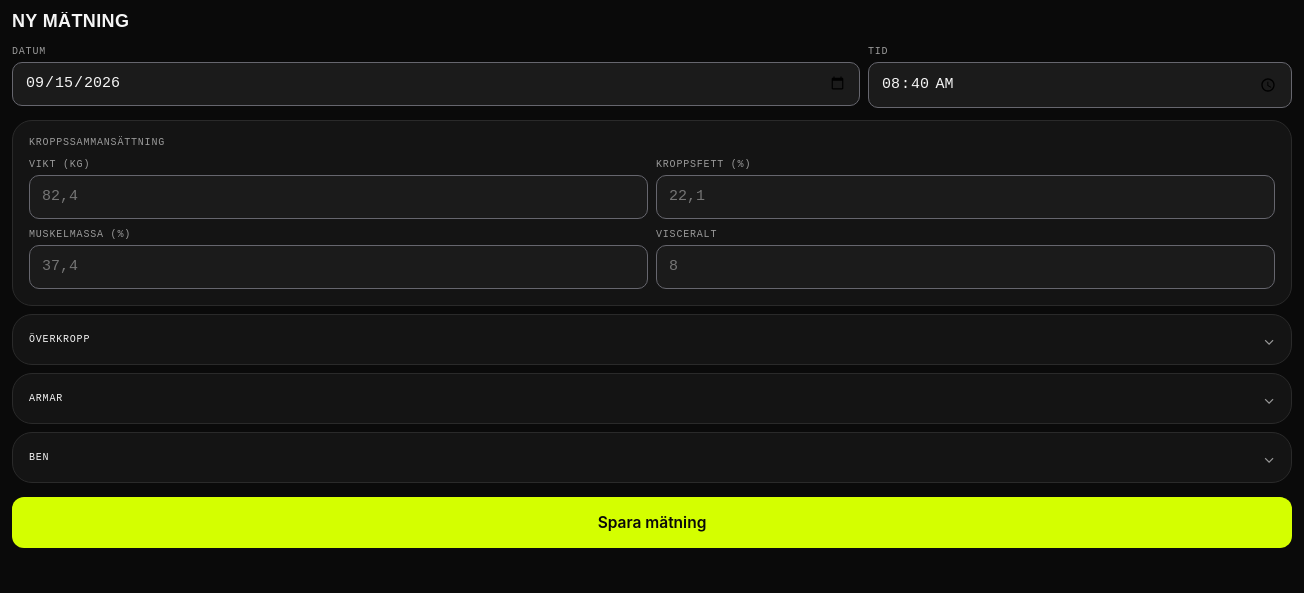
Test case: registrera en mätning › helt tomt formulär sparar ingenting och säger till
Click the button "Spara mätning" at (652, 522), box left=12, top=496, right=1292, bottom=548
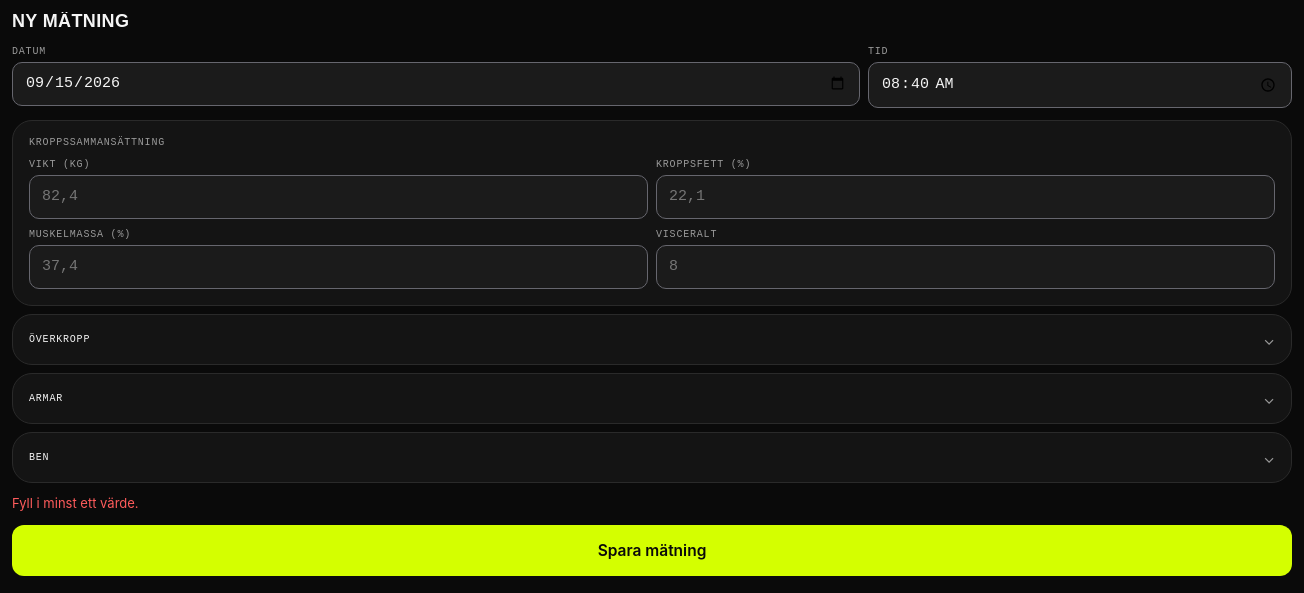
Now the message "Fyll i minst ett värde." is shown, box left=12, top=494, right=139, bottom=510
